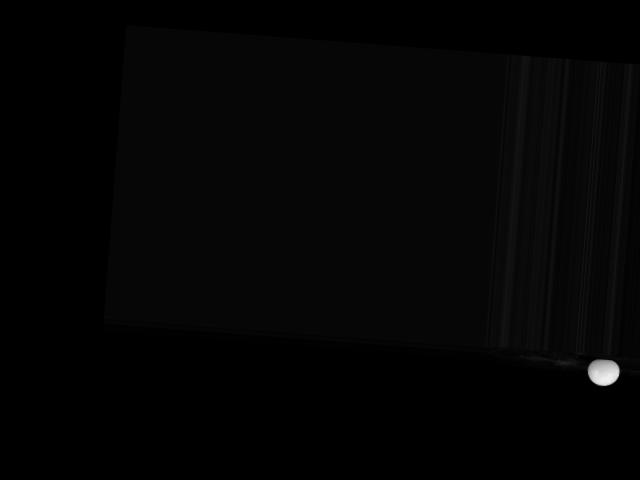egg: (585, 358, 620, 387)
